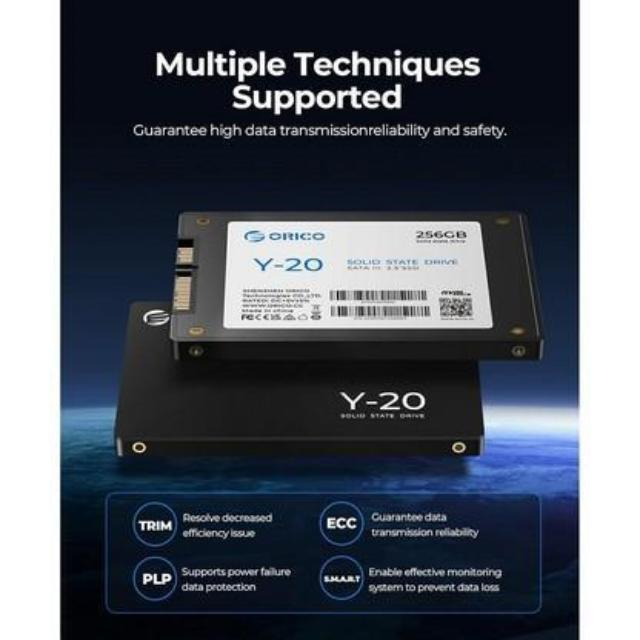DISK: (166, 193, 546, 378)
